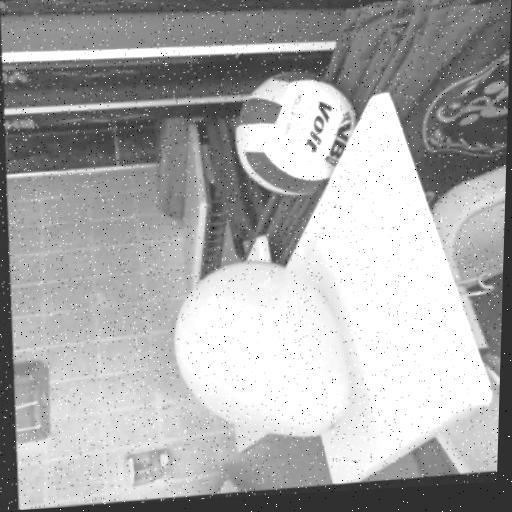balloon: (162, 251, 351, 452)
